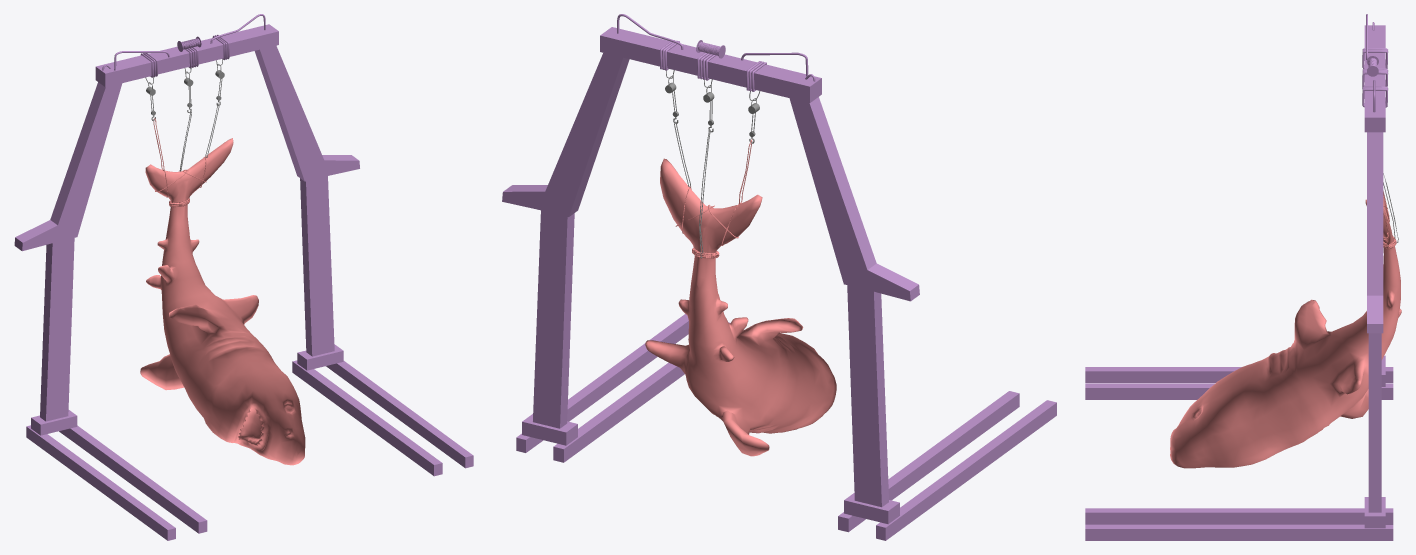
The model's file is Requin.fbx.
3 views of the same model, side by side, from view 1: azimuth 30°, elevation 25°; view 2: azimuth 150°, elevation 25°; view 3: azimuth 270°, elevation 25° (orthographic). The views are drawn at different scales.
Parts seen in each view (by area): view 1: Box002, default001; view 2: Box002, default001; view 3: Box002, default001.
Boxes of the visible parts, x1,y1,x2,y2 form: Box002: (14,14,473,540); default001: (140,118,305,465); Box002: (502,14,1056,540); default001: (645,139,836,456); Box002: (1085,14,1393,540); default001: (1170,191,1401,468).
Bounding box in the file's own units: 295986 × 313530 × 220757.
